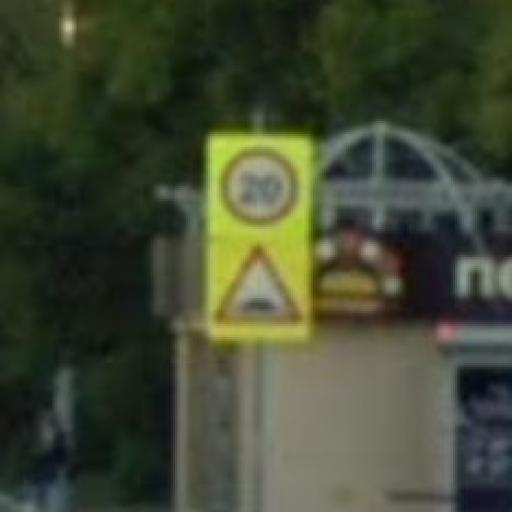traffic_sign: (213, 241, 310, 327), (220, 146, 305, 230)
